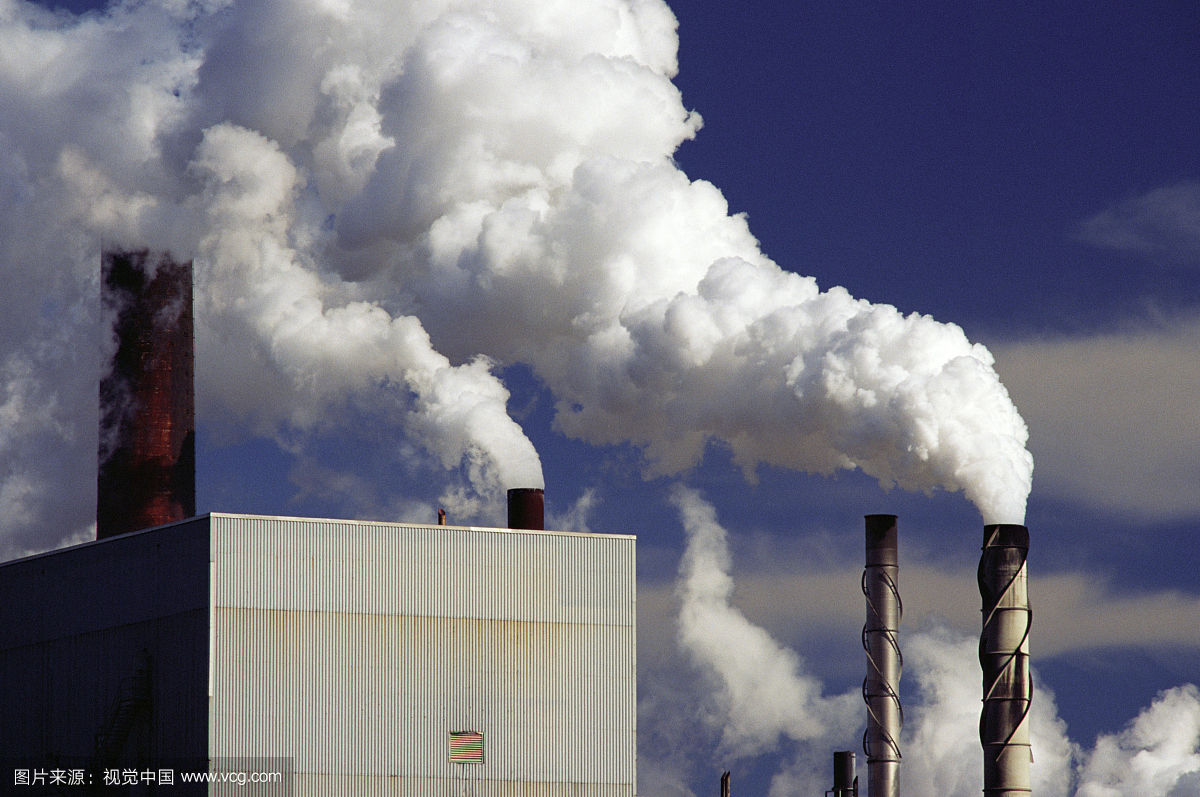dust: (584, 180, 1048, 559), (285, 276, 564, 515)
